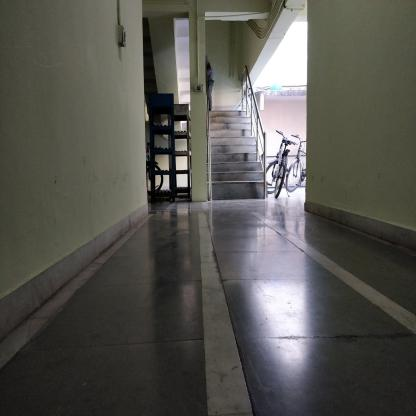stairs: (214, 110, 245, 204)
